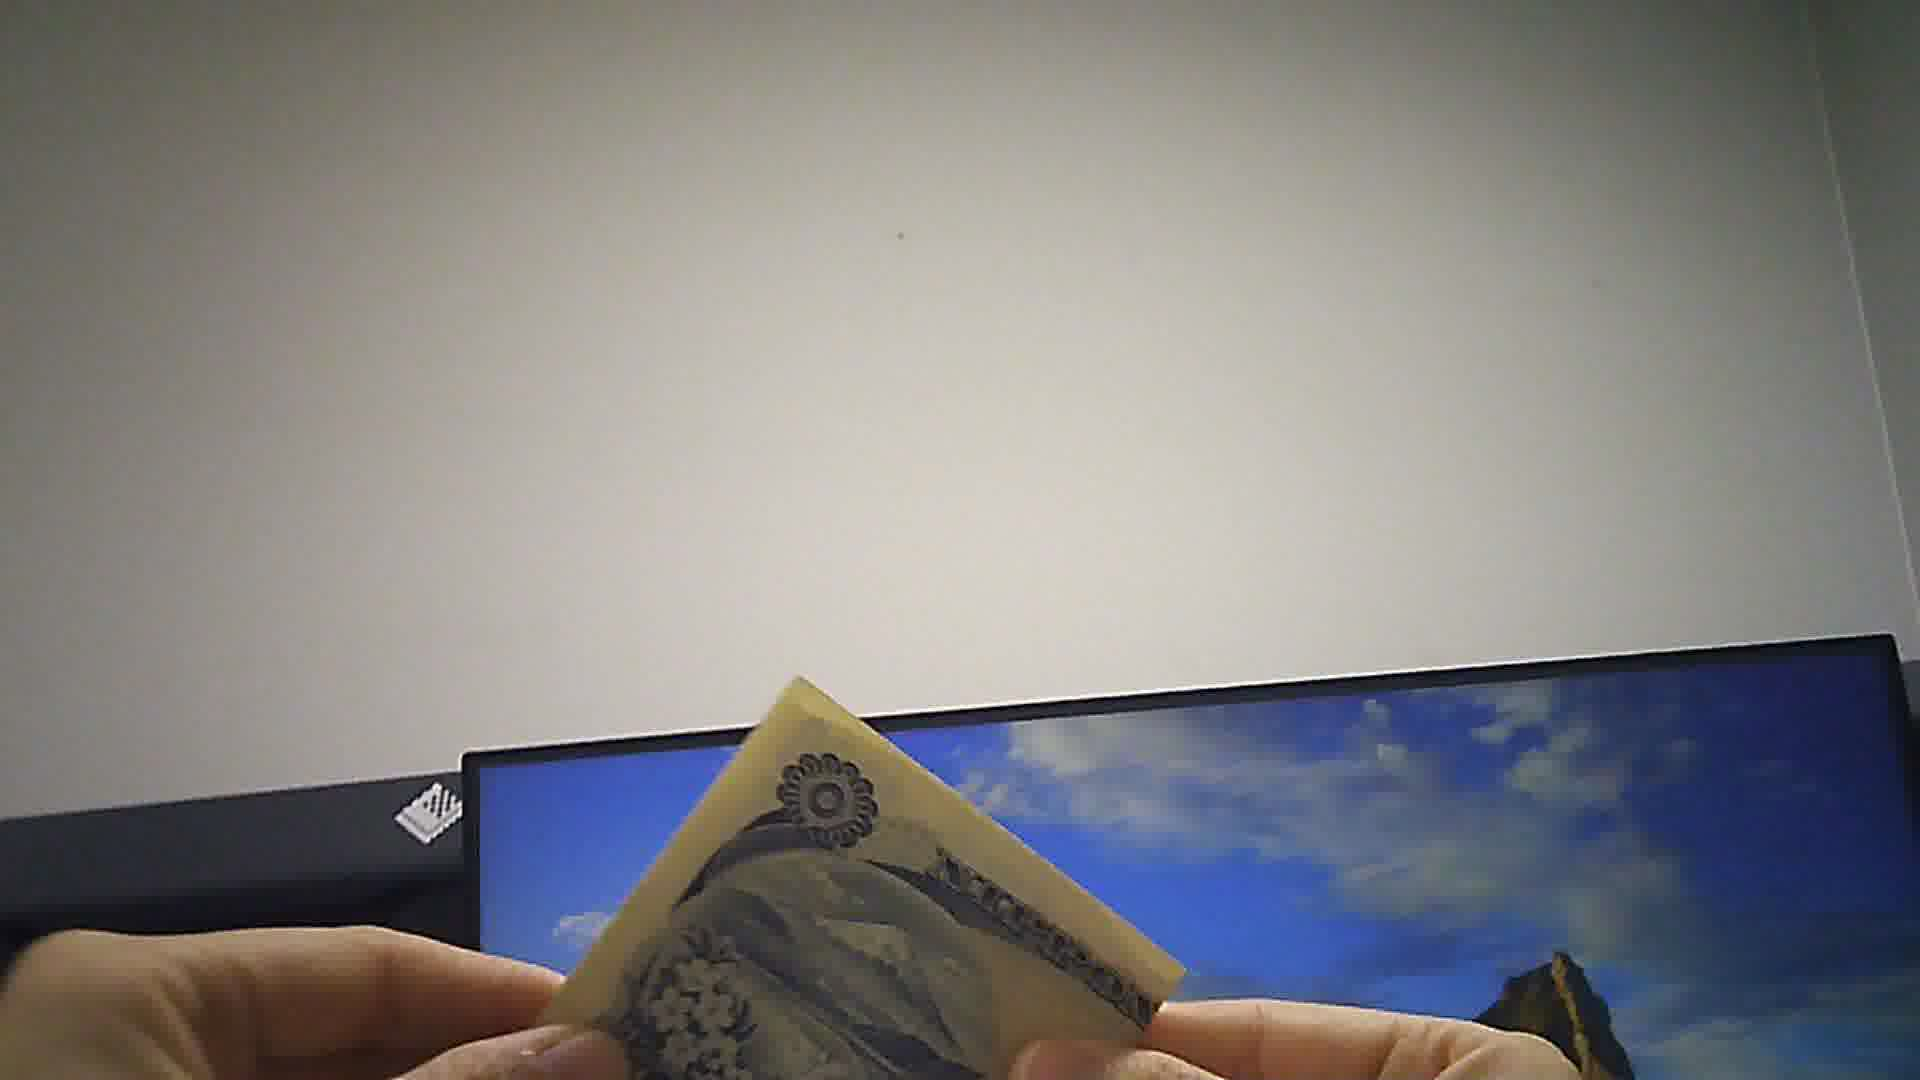1,000 Yen: (541, 705, 1178, 1079)
